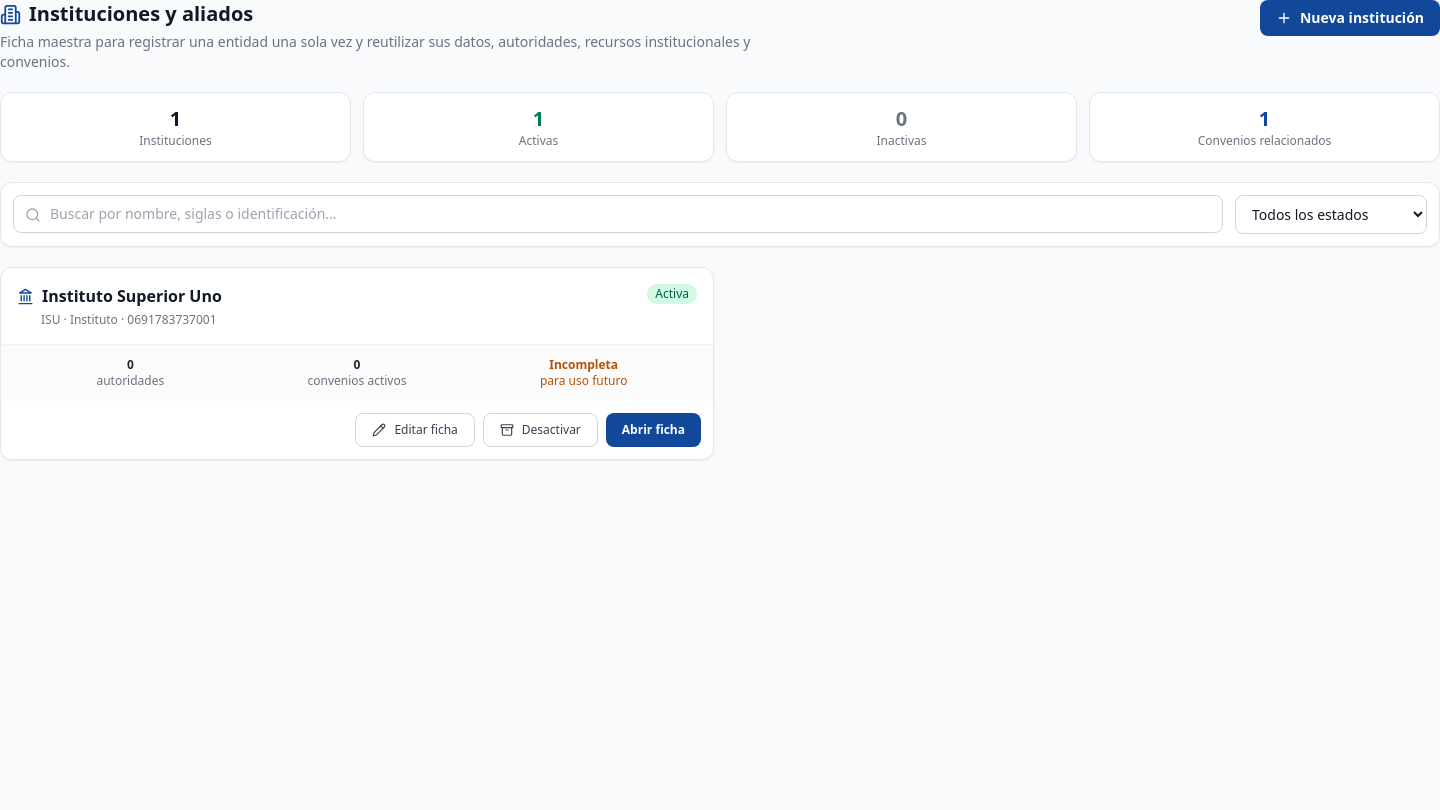
Scenario: ficha maestra institucional › permite consultar convenios y documentos asociados desde la ficha
Click the button "Abrir ficha" at (653, 430), box [606,413,701,447]
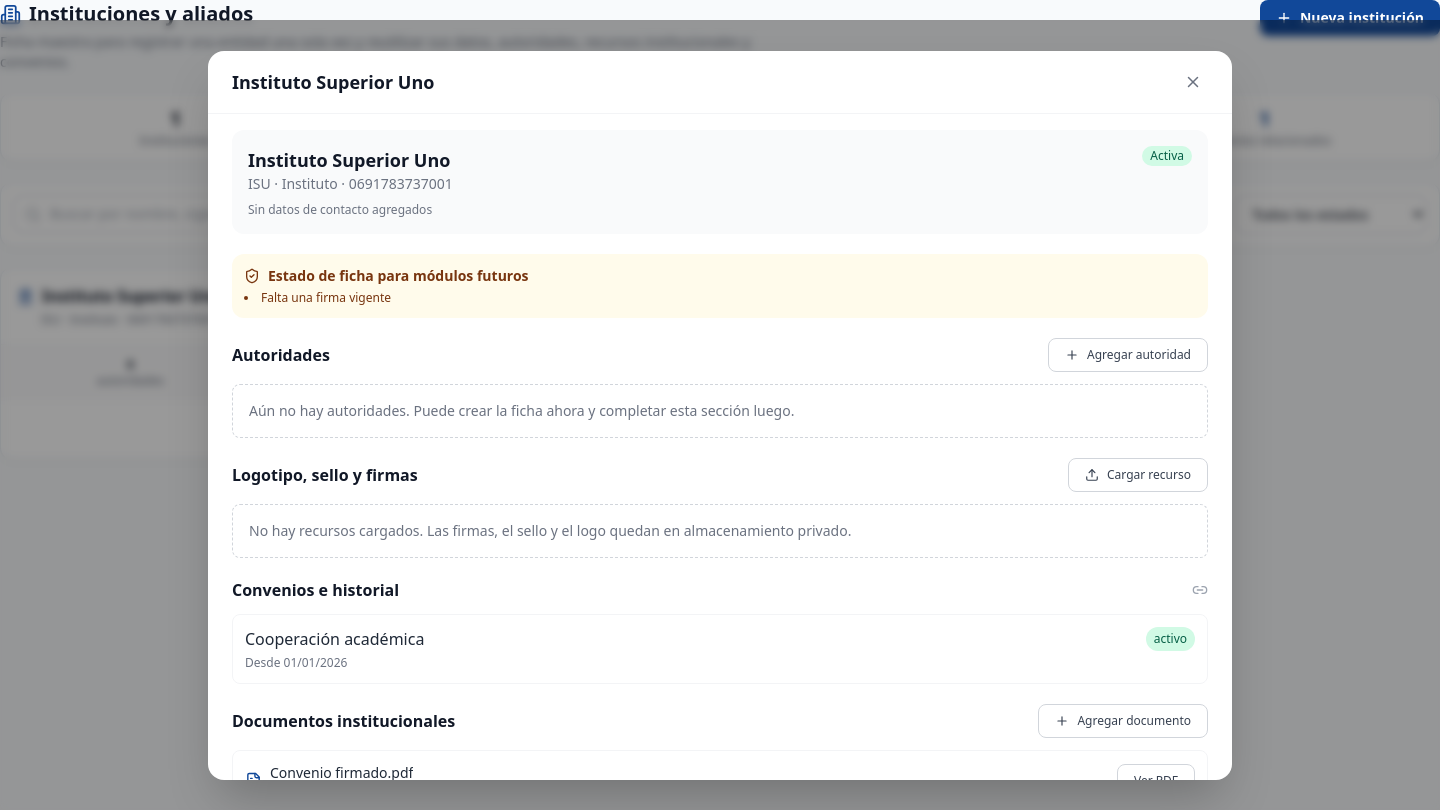
Check: the text "Cooperación académica" is shown, box [245,626,424,650]
Check: the text "Convenio firmado.pdf" is shown, box [270,762,413,780]
